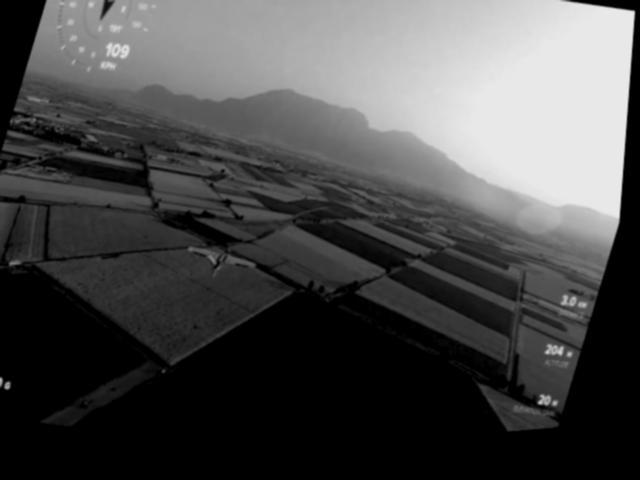hedef: (178, 227, 273, 296)
